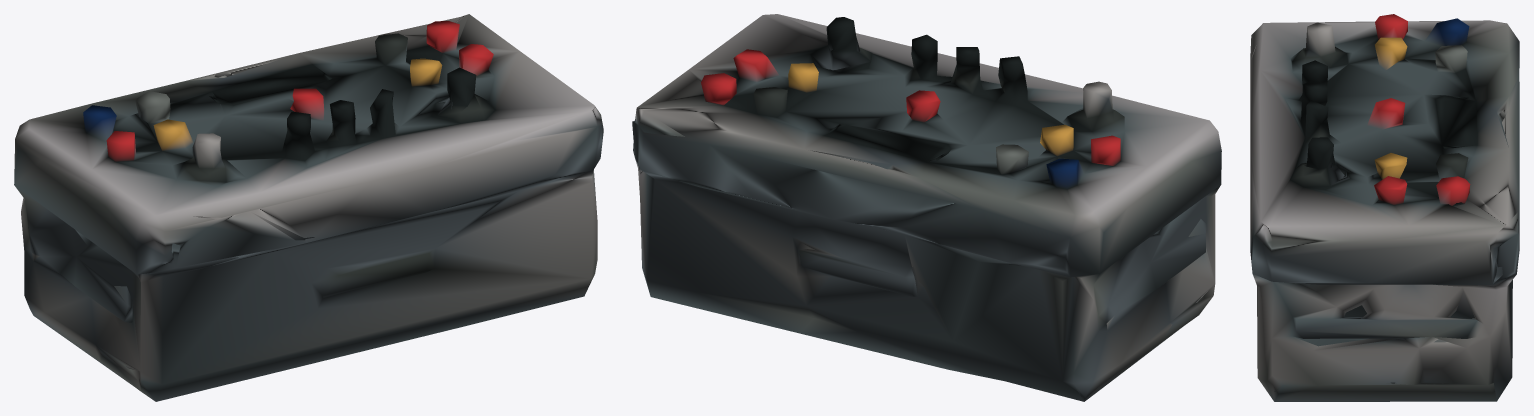
Rendered from gen3d-control-panel-lod1.glb.
3 renders of one model, left to right at view 1: azimuth 30°, elevation 25°; view 2: azimuth 150°, elevation 25°; view 3: azimuth 270°, elevation 25°, orthographic. The views are drawn at different scales.
Visible parts, largest first — view 1: part_0; view 2: part_0; view 3: part_0.
Part boxes in pixels (x1,y1,x2,y2): part_0: [14, 14, 603, 401]; part_0: [632, 14, 1221, 401]; part_0: [1250, 14, 1519, 401].
Bounding box in the file's own units: 2.12 × 0.9989 × 1.12.
